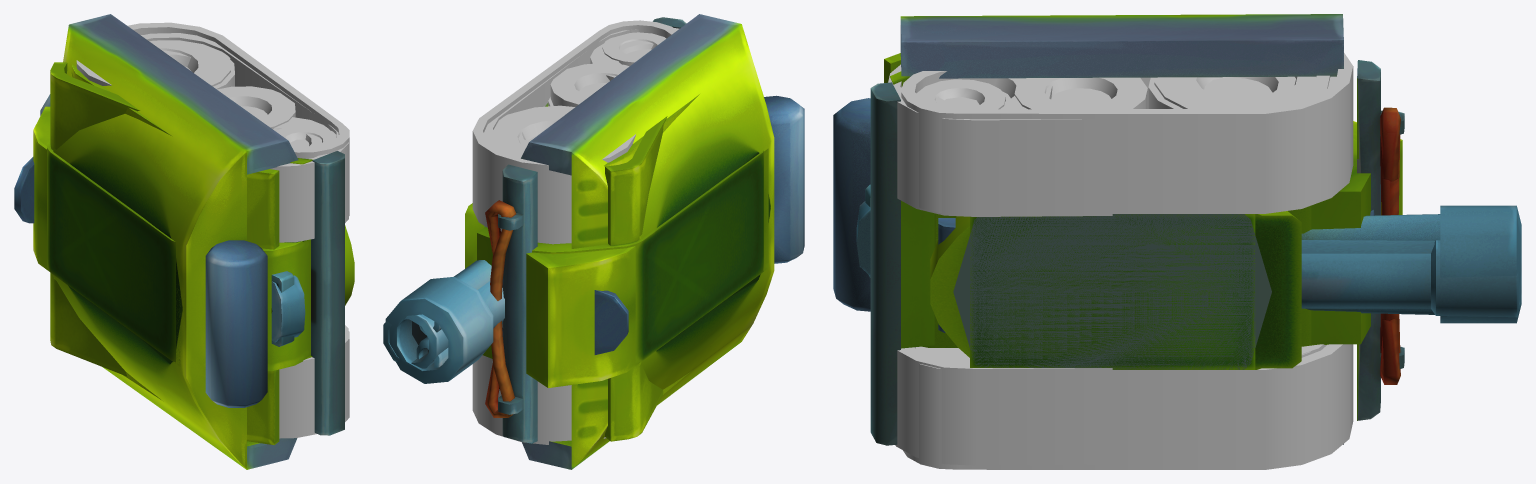
The model's file is Tanks_Full.fbx.
3 views of the same model, side by side, from view 1: azimuth 30°, elevation 25°; view 2: azimuth 150°, elevation 25°; view 3: azimuth 270°, elevation 25° (orthographic). The views are drawn at different scales.
Visible parts, largest first — view 1: Tank_Bottom_03, Tank_Bottom_01, Tank_Bottom_02, polySurface11, polySurface10, Tank_Top_03, Tank_Top_01; view 2: Tank_Bottom_03, Tank_Bottom_01, Tank_Top_02, Tank_Top_03, Tank_Top_01, Tank_Bottom_02; view 3: Tank_Bottom_01, Tank_Bottom_03, Tank_Top_03, Tank_Top_02, Tank_Top_01, polySurface11, polySurface10, Tank_Bottom_02.
Part boxes in pixels (x1,y1,x2,y2): Tank_Bottom_03: (33, 14, 348, 469); Tank_Bottom_01: (47, 22, 349, 435); Tank_Bottom_02: (71, 64, 305, 445); polySurface11: (144, 34, 348, 241); polySurface10: (293, 329, 348, 437); Tank_Top_03: (14, 157, 34, 223); Tank_Top_01: (345, 225, 354, 305); Tank_Bottom_03: (484, 14, 804, 469); Tank_Bottom_01: (472, 17, 763, 444); Tank_Top_02: (385, 276, 504, 383); Tank_Top_03: (383, 103, 628, 368); Tank_Top_01: (416, 203, 491, 367); Tank_Bottom_02: (604, 94, 768, 395); Tank_Bottom_01: (865, 53, 1404, 469); Tank_Bottom_03: (833, 14, 1402, 465); Tank_Top_03: (953, 210, 1519, 369); Tank_Top_02: (938, 205, 1521, 369); Tank_Top_01: (930, 211, 1440, 369); polySurface11: (888, 65, 1329, 216); polySurface10: (895, 349, 975, 465); Tank_Bottom_02: (856, 53, 956, 275).
Size of the model in its own units: 0.4682 by 0.7911 by 1.22.
